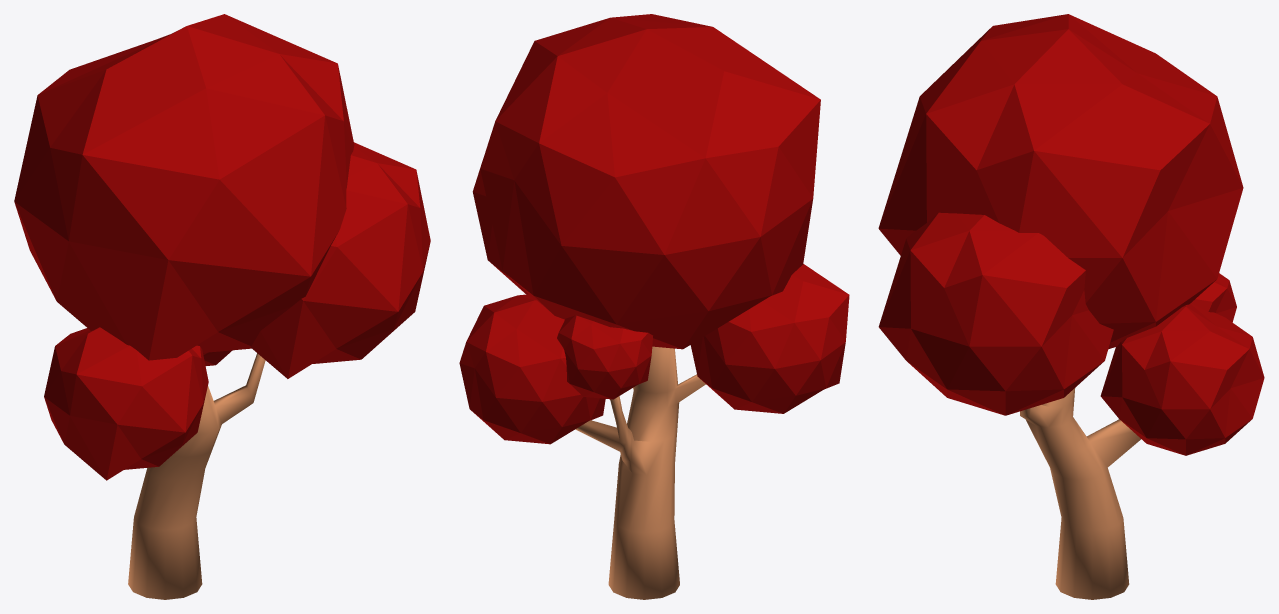
File: DyingTree.fbx
3 renders of one model, left to right at view 1: azimuth 30°, elevation 25°; view 2: azimuth 150°, elevation 25°; view 3: azimuth 270°, elevation 25°, orthographic. The views are drawn at different scales.
Visible parts, largest first — view 1: Tree; view 2: Tree; view 3: Tree.
Part boxes in pixels (left/top/right/bottom): Tree: left=14, top=14, right=430, bottom=599; Tree: left=459, top=14, right=849, bottom=599; Tree: left=878, top=14, right=1264, bottom=599.
Bounding box in the file's own units: 5.11 × 7.76 × 4.85.
